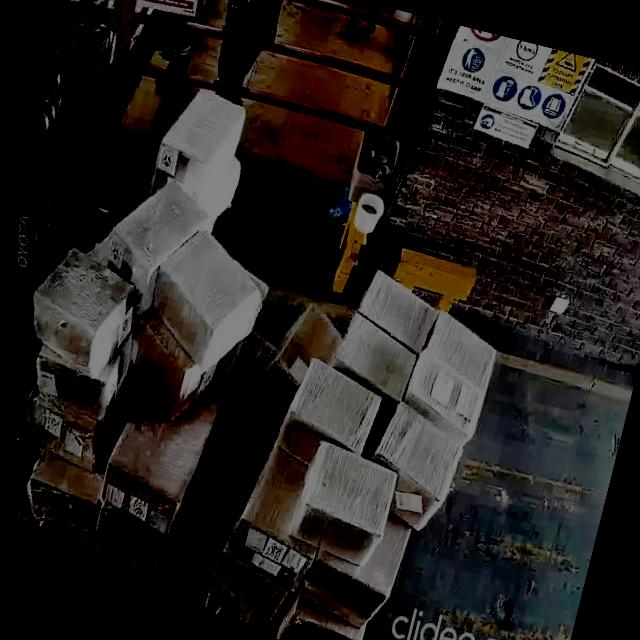Box: (22, 247, 142, 376), (286, 442, 402, 574), (158, 227, 270, 359), (161, 78, 246, 184), (283, 364, 379, 456), (104, 178, 184, 282), (374, 414, 467, 497), (94, 466, 186, 540), (352, 266, 434, 346), (13, 401, 102, 468), (32, 358, 120, 424), (340, 321, 420, 392), (225, 516, 307, 584), (207, 552, 288, 620), (303, 562, 380, 628), (26, 482, 99, 530), (280, 605, 364, 640)
